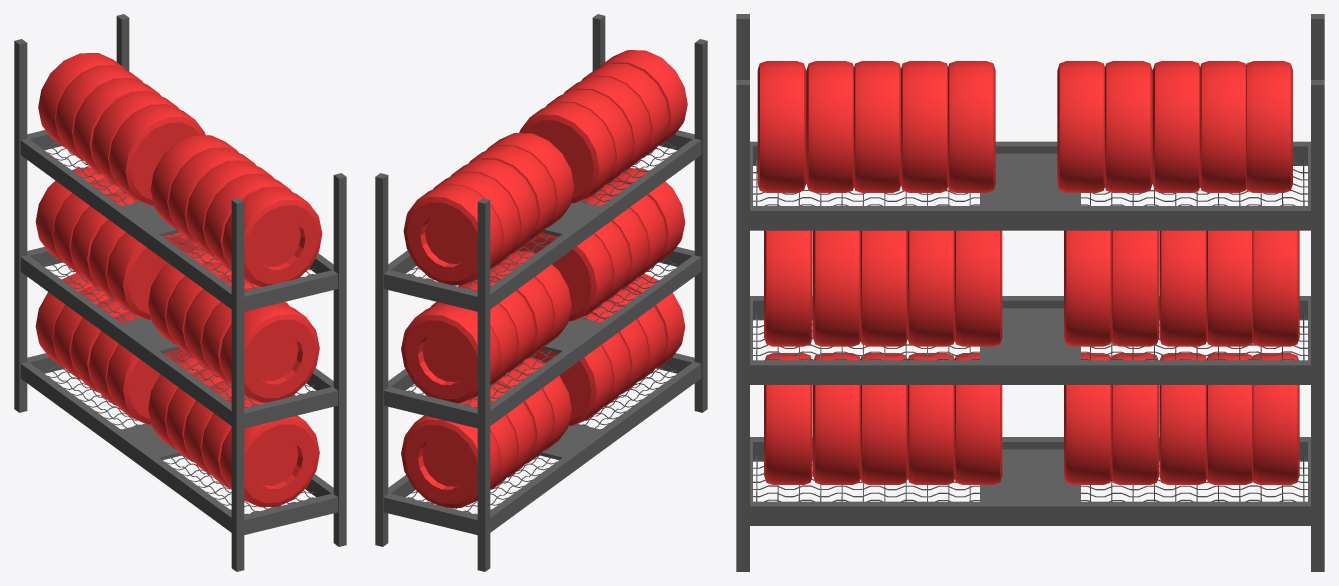
File: Tire_Lack.fbx
3 views of the same model, side by side, from view 1: azimuth 30°, elevation 25°; view 2: azimuth 150°, elevation 25°; view 3: azimuth 270°, elevation 25° (orthographic). The views are drawn at different scales.
Visible parts, largest first — view 1: pCube11; view 2: pCube11; view 3: pCube11.
Part boxes in pixels (<box>): pCube11: <box>14,14,346,571</box>; pCube11: <box>375,14,707,571</box>; pCube11: <box>736,14,1324,571</box>.
Size of the model in its own units: 1045 by 3346 by 3664.
